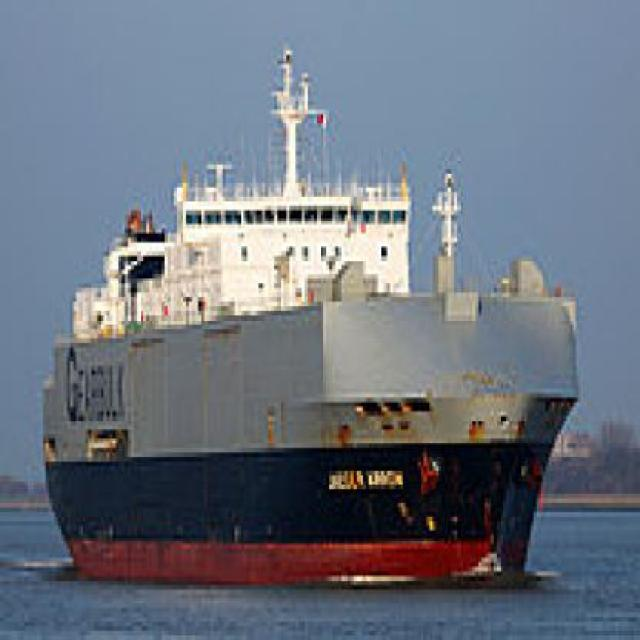container: (34, 33, 593, 600)
